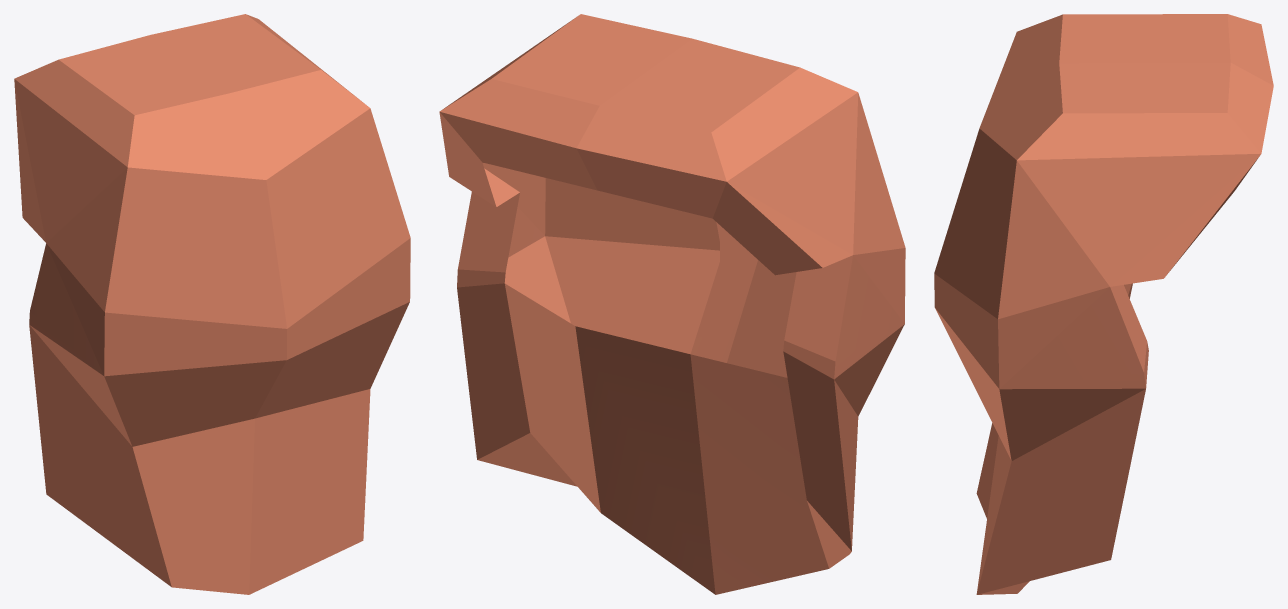
File: femmeCheveux2.fbx
The picture shows the model from 3 angles, left to right: view 1: azimuth 30°, elevation 25°; view 2: azimuth 150°, elevation 25°; view 3: azimuth 270°, elevation 25°; orthographic projection. The views are drawn at different scales.
Visible parts, largest first — view 1: Hair_2; view 2: Hair_2; view 3: Hair_2.
Boxes of the visible parts, x1,y1,x2,y2 form: Hair_2: (14,14,410,594); Hair_2: (439,14,905,594); Hair_2: (934,14,1273,594).
Bounding box in the file's own units: 68.69 × 99.73 × 57.92.
